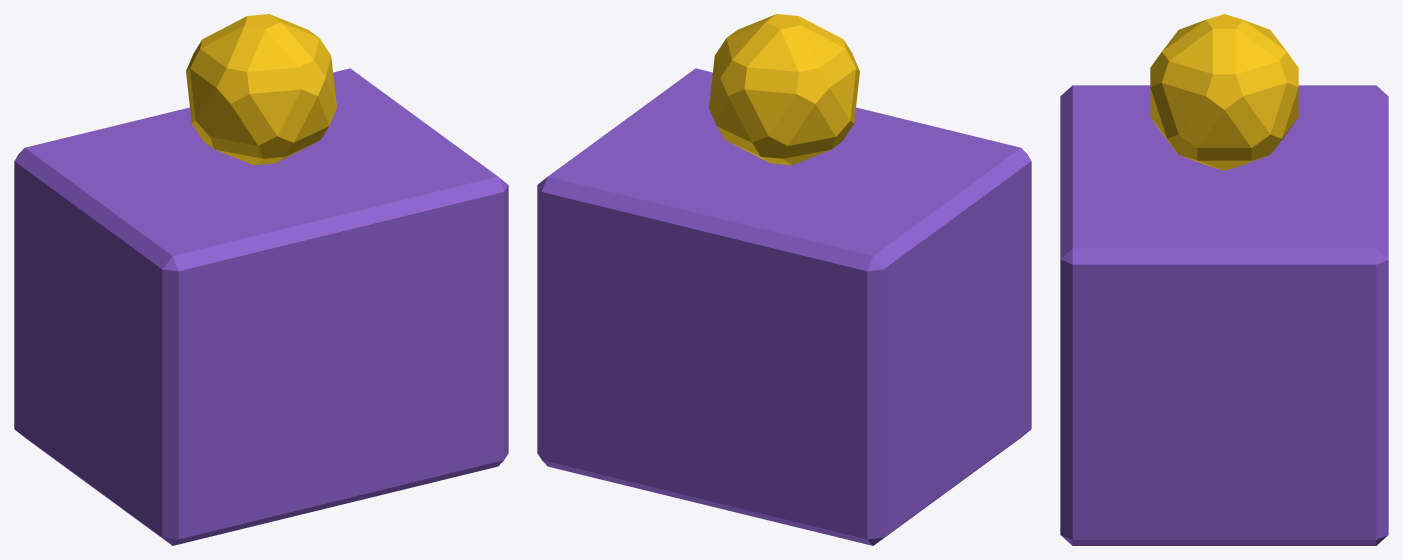
File: electrical_relay.glb
The picture shows the model from 3 angles, left to right: view 1: azimuth 30°, elevation 25°; view 2: azimuth 150°, elevation 25°; view 3: azimuth 270°, elevation 25°; orthographic projection. The views are drawn at different scales.
Parts seen in each view (by area): view 1: electrical_relay; view 2: electrical_relay; view 3: electrical_relay.
Part boxes in pixels (left/top/right/bottom): electrical_relay: left=14, top=14, right=508, bottom=545; electrical_relay: left=537, top=14, right=1031, bottom=545; electrical_relay: left=1060, top=14, right=1388, bottom=545.
Size of the model in its own units: 0.2 by 0.2377 by 0.16.
